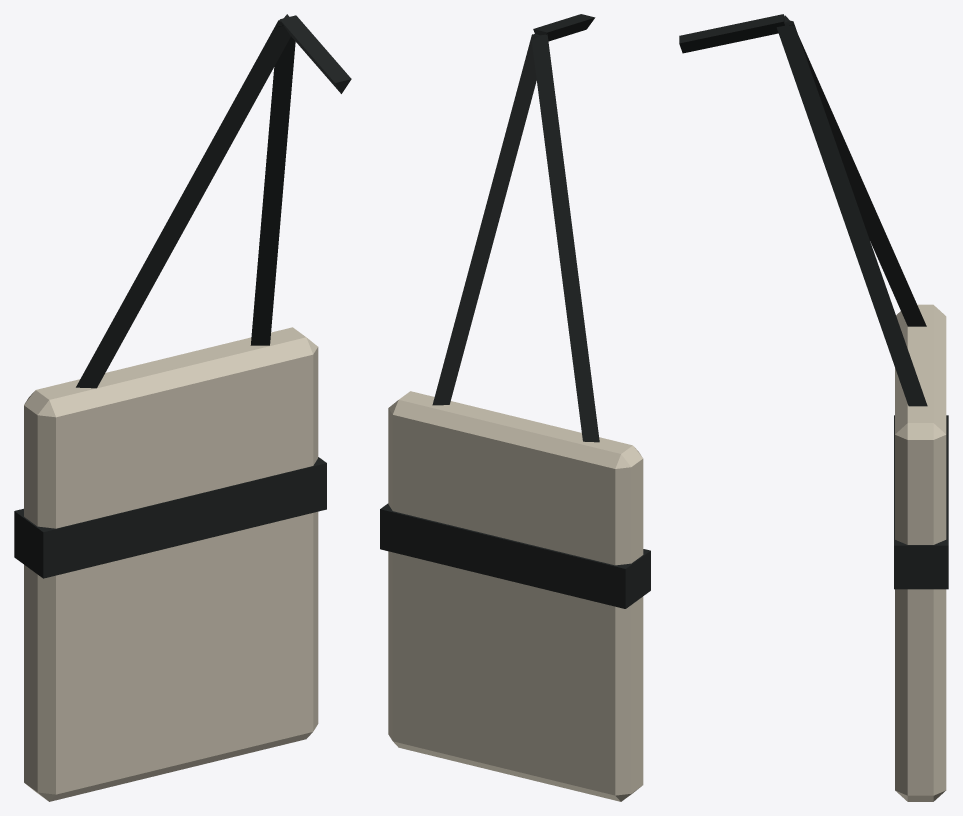
File: acc-subway-tote.high.003f5405.glb
The picture shows the model from 3 angles, left to right: view 1: azimuth 30°, elevation 25°; view 2: azimuth 150°, elevation 25°; view 3: azimuth 270°, elevation 25°; orthographic projection. The views are drawn at different scales.
Visible parts, largest first — view 1: acc-subway-tote; view 2: acc-subway-tote; view 3: acc-subway-tote.
Boxes of the visible parts, box(x1,y1,x2,y2) form: acc-subway-tote: box(14, 14, 351, 801); acc-subway-tote: box(380, 14, 650, 801); acc-subway-tote: box(679, 14, 948, 801).
Size of the model in its own units: 0.192 by 0.5114 by 0.1676.
